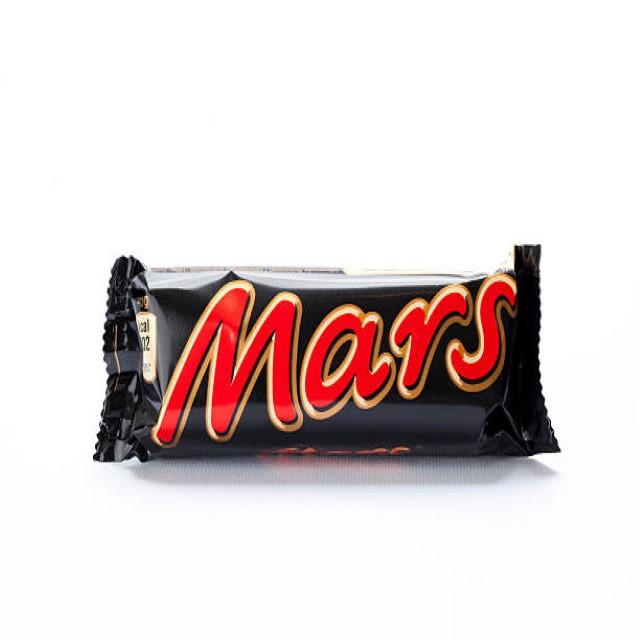mars_chocolate: (102, 245, 555, 468)
